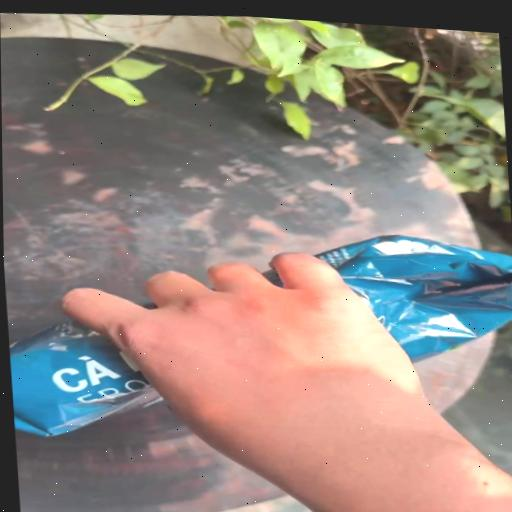cafe_hat: (317, 236, 512, 362), (10, 321, 151, 436)
